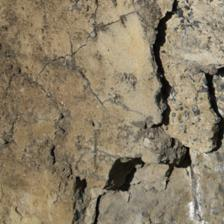Crack: (38, 10, 140, 79), (70, 155, 146, 224), (146, 3, 184, 133), (81, 75, 154, 126)
